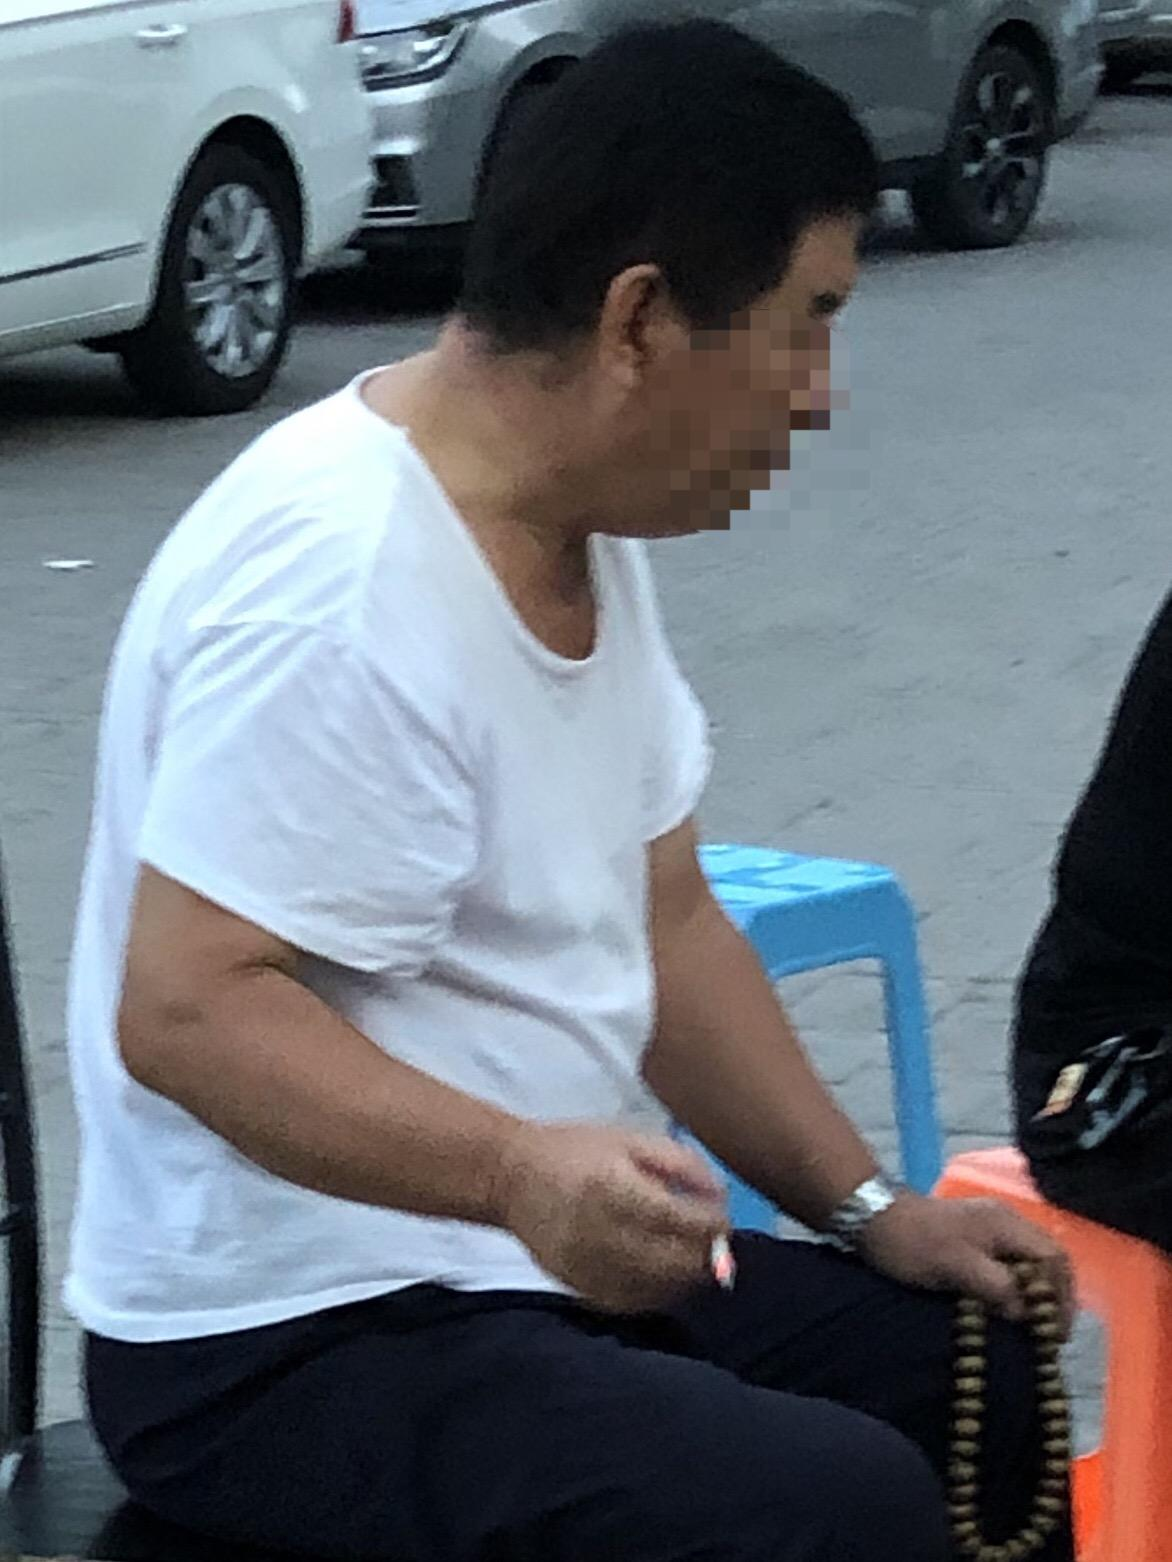smoke: (710, 1238, 745, 1297)
